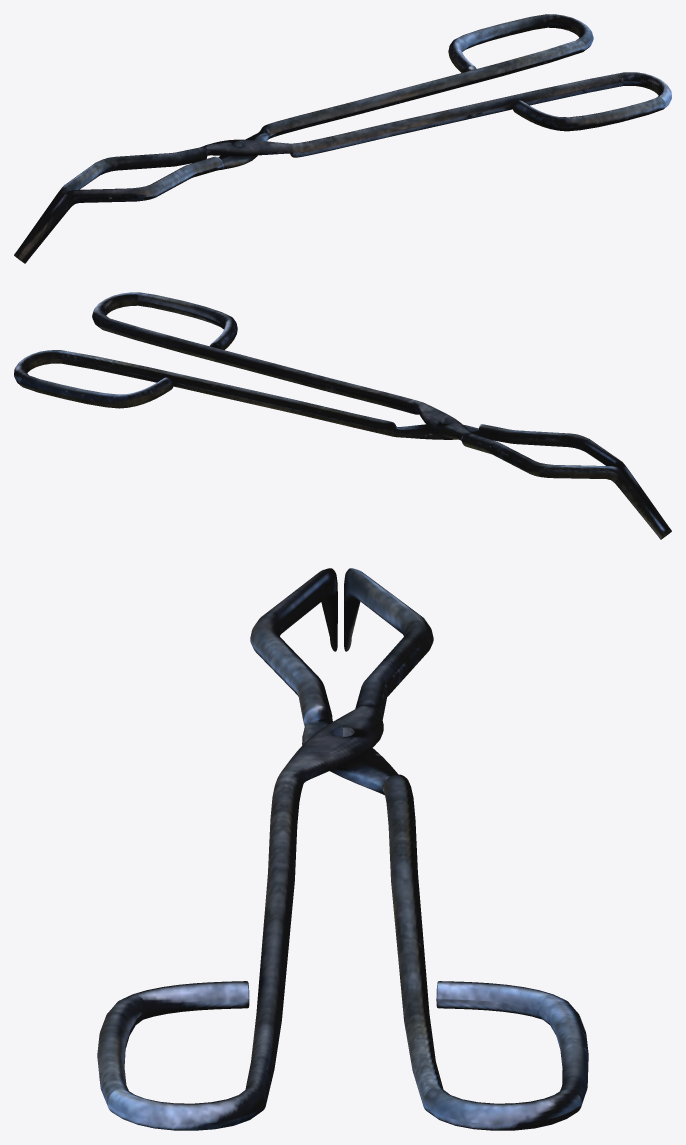
Rendered from tong.glb.
The picture shows the model from 3 angles, top to bottom: view 1: azimuth 30°, elevation 25°; view 2: azimuth 150°, elevation 25°; view 3: azimuth 270°, elevation 25°; orthographic projection. The views are drawn at different scales.
Parts seen in each view (by area): view 1: tong; view 2: tong; view 3: tong.
Boxes of the visible parts, box(x1,y1,x2,y2) form: tong: box(14, 14, 671, 263); tong: box(14, 292, 671, 539); tong: box(97, 568, 588, 1130).
Bounding box in the file's own units: 0.1011 × 0.0107 × 0.0353.
Materials: 1 (1 with a texture image).
